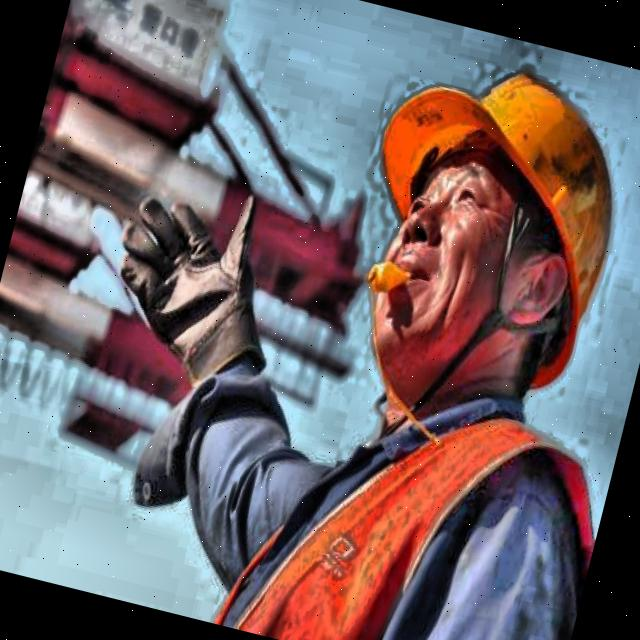helmet: (306, 21, 640, 461)
